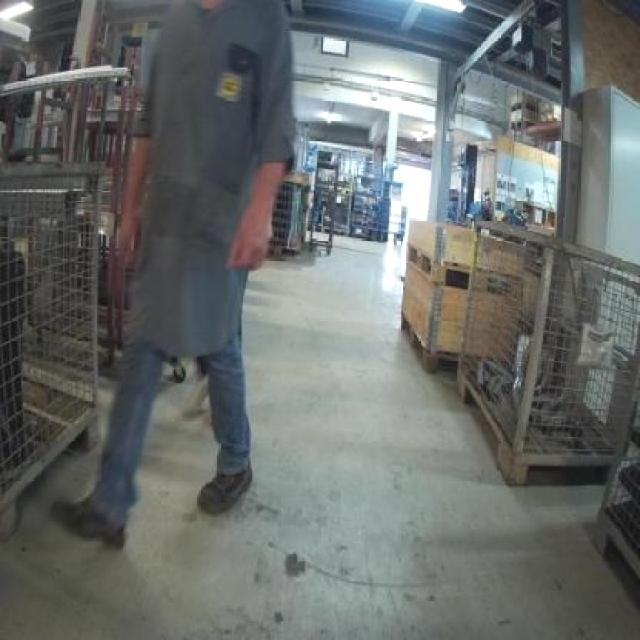floor: (0, 235, 637, 637)
pallets: (400, 218, 637, 482), (457, 220, 637, 482)
